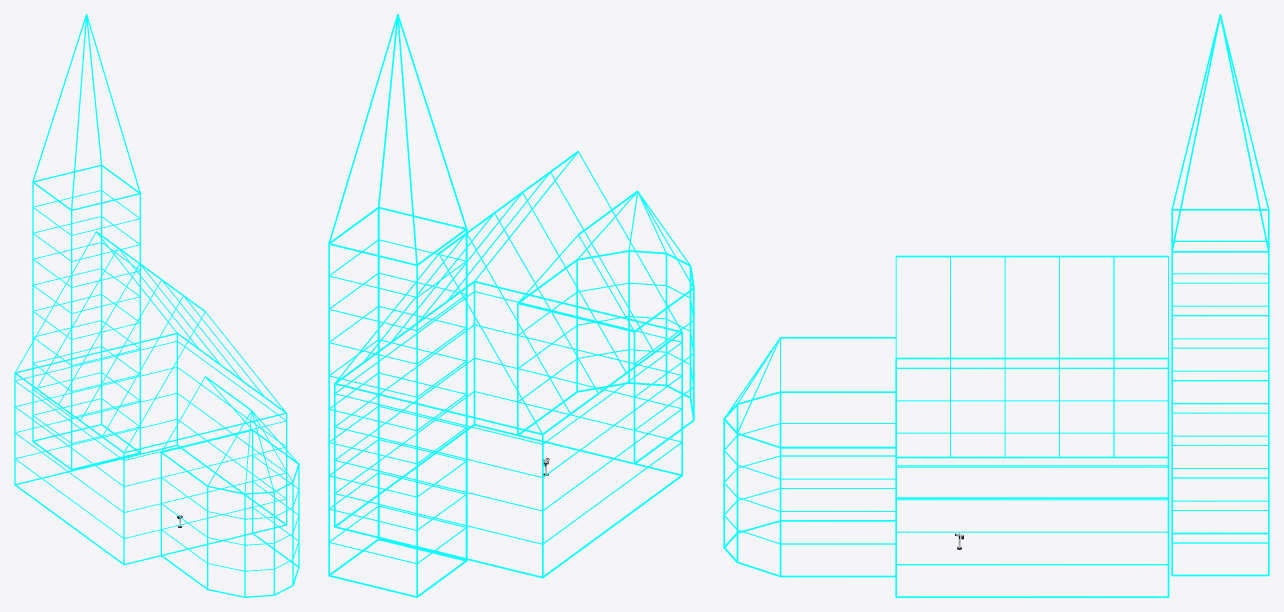
The model's file is room-detail-fara-props.glb.
3 renders of one model, left to right at view 1: azimuth 30°, elevation 25°; view 2: azimuth 150°, elevation 25°; view 3: azimuth 270°, elevation 25°, orthographic. The views are drawn at different scales.
Parts seen in each view (by area): view 1: rd-fara-holo; view 2: rd-fara-holo; view 3: rd-fara-holo.
Part boxes in pixels (x1,y1,x2,y2): rd-fara-holo: (14, 14, 299, 597); rd-fara-holo: (328, 14, 694, 597); rd-fara-holo: (723, 14, 1269, 597).
Size of the model in its own units: 19.74 by 50.02 by 45.74.
1 material, 1 textured.
